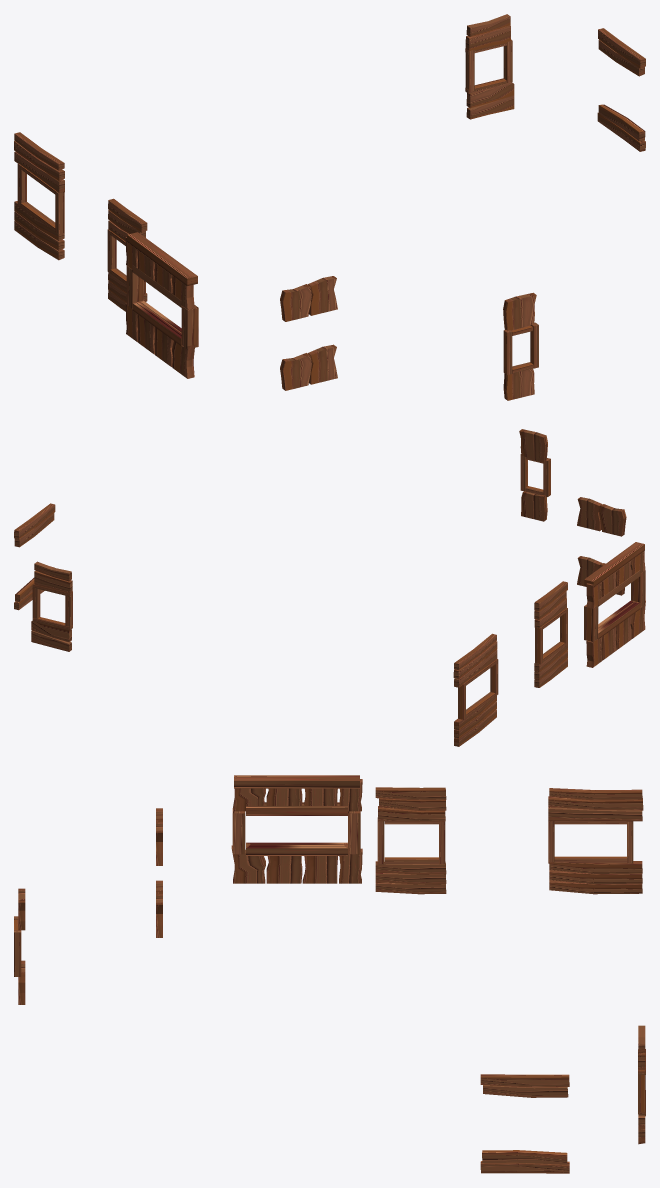
The model's file is MSH_Piso1_Ventanas.FBX.
3 renders of one model, top to bottom at view 1: azimuth 30°, elevation 25°; view 2: azimuth 150°, elevation 25°; view 3: azimuth 270°, elevation 25°, orthographic. The views are drawn at different scales.
Parts seen in each view (by area): view 1: MSH_Piso1_Ventana02, MSH_Piso1_Ventana00, MSH_Piso1_Ventana03, MSH_Piso1_Ventana05, MSH_Piso1_Ventana04, MSH_Piso1_Ventana06, MSH_Piso1_Ventana01; view 2: MSH_Piso1_Ventana02, MSH_Piso1_Ventana00, MSH_Piso1_Ventana05, MSH_Piso1_Ventana01, MSH_Piso1_Ventana04, MSH_Piso1_Ventana03, MSH_Piso1_Ventana06; view 3: MSH_Piso1_Ventana02, MSH_Piso1_Ventana00, MSH_Piso1_Ventana01, MSH_Piso1_Ventana06, MSH_Piso1_Ventana04, MSH_Piso1_Ventana05, MSH_Piso1_Ventana03.
Boxes of the visible parts, box(x1,y1,x2,y2) form: MSH_Piso1_Ventana02: box(125, 232, 198, 378); MSH_Piso1_Ventana00: box(14, 132, 64, 260); MSH_Piso1_Ventana03: box(280, 276, 337, 390); MSH_Piso1_Ventana05: box(465, 14, 514, 119); MSH_Piso1_Ventana04: box(503, 292, 538, 400); MSH_Piso1_Ventana06: box(597, 28, 645, 151); MSH_Piso1_Ventana01: box(107, 198, 147, 311); MSH_Piso1_Ventana02: box(584, 542, 645, 667); MSH_Piso1_Ventana00: box(453, 633, 498, 746); MSH_Piso1_Ventana05: box(31, 561, 72, 651); MSH_Piso1_Ventana01: box(534, 581, 567, 687); MSH_Piso1_Ventana04: box(519, 429, 550, 521); MSH_Piso1_Ventana03: box(577, 497, 626, 595); MSH_Piso1_Ventana06: box(14, 503, 55, 610); MSH_Piso1_Ventana02: box(231, 775, 362, 883); MSH_Piso1_Ventana00: box(548, 788, 643, 894); MSH_Piso1_Ventana01: box(375, 787, 446, 894); MSH_Piso1_Ventana06: box(480, 1074, 569, 1173); MSH_Piso1_Ventana04: box(14, 888, 25, 1004); MSH_Piso1_Ventana05: box(638, 1025, 645, 1144); MSH_Piso1_Ventana03: box(156, 808, 162, 937).
Bounding box in the file's own units: 882 × 147 × 800.
